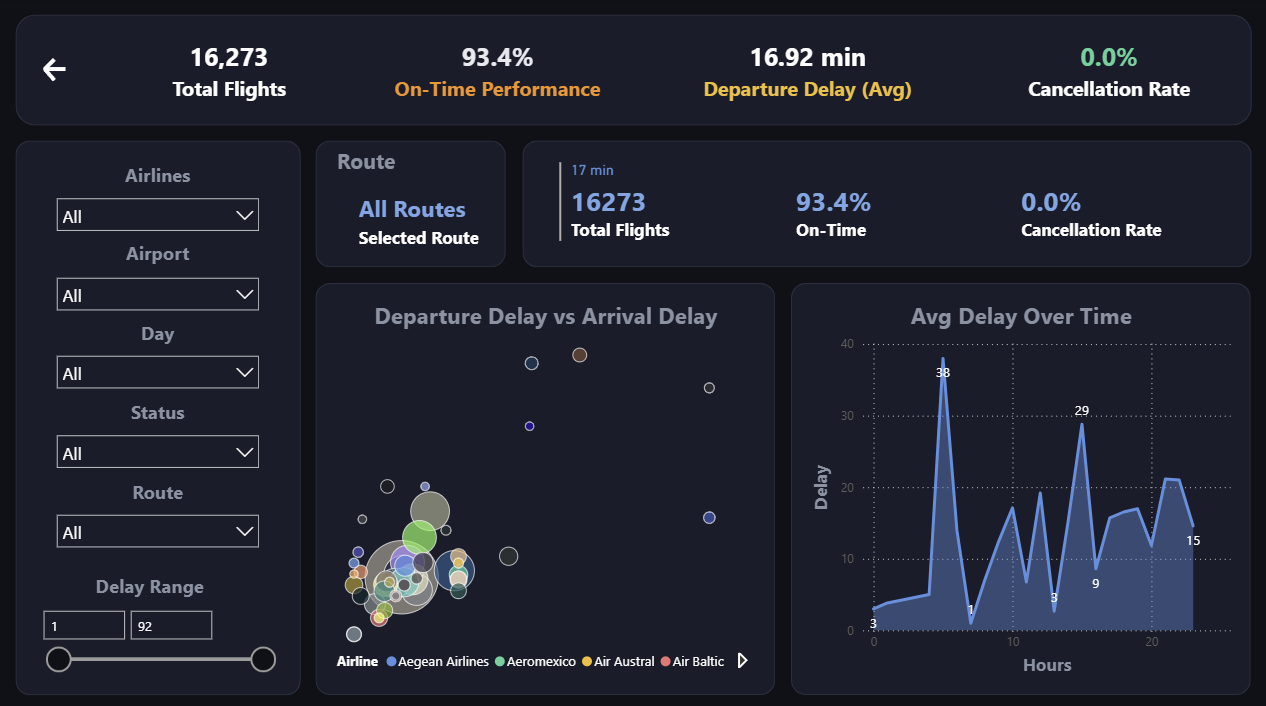

This screenshot's page, from the dashboard's own definition file:
{"tool":"powerbi","page":{"name":"Flight Details & Exploration","canvas":[1280,720],"ordinal":2},"visuals":[{"type":"shape","box":[16,144,288,560],"z":0},{"type":"textbox","box":[80,160,160,48],"z":1000},{"type":"textbox","box":[80,240,160,48],"z":2000},{"type":"textbox","box":[80,320,160,64],"z":3000},{"type":"textbox","box":[80,576,144,48],"z":4000},{"type":"textbox","box":[80,400,160,48],"z":5000},{"type":"textbox","box":[80,480,160,48],"z":6000},{"type":"slicer","fields":{"Values":["public dim_airport.airport_name"]},"box":[48,192,224,48],"z":7000},{"type":"slicer","fields":{"Values":["public dim_airline.airline_name"]},"box":[48,272,224,48],"z":8000},{"type":"slicer","fields":{"Values":["public dim_time.date.Variation.Date Hierarchy.Day"]},"box":[48,352,224,48],"z":9000},{"type":"slicer","fields":{"Values":["public fact_flight.Flight Status"]},"box":[48,432,224,48],"z":10000},{"type":"slicer","fields":{"Values":["public fact_flight.Route"]},"box":[48,512,224,48],"z":11000},{"type":"slicer","fields":{"Values":["public fact_flight.departure_delay"]},"box":[32,608,256,80],"z":12000},{"type":"shape","box":[320,144,192,128],"z":13000},{"type":"shape","box":[16,16,1248,112],"z":14000},{"type":"cardVisual","fields":{"Data":["public fact_flight.Total Flights"]},"box":[80,16,304,112],"z":15000},{"type":"cardVisual","fields":{"Data":["public kpi_avg_departure_delay.Avg Departure Delay"]},"box":[672,16,288,112],"z":16000},{"type":"cardVisual","fields":{"Data":["Sum(public kpi_cancellation_rate.cancellation_rate)"]},"box":[976,16,288,112],"z":17000},{"type":"cardVisual","fields":{"Data":["public kpi_on_time_performance.On-Time Performance %"]},"box":[352,16,304,112],"z":18000},{"type":"cardVisual","title":"Route","fields":{"Data":["public dim_airline.Selected Route"]},"box":[336,144,192,128],"z":19000},{"type":"shape","box":[528,144,736,128],"z":20000},{"type":"multiRowCard","fields":{"Values":["public dim_airline.Total Flights (Selected Route)","public dim_airline.Avg Delay (Selected Route)","public dim_airline.On-Time % (Selected Route)","public dim_airline.Cancellation % (Selected Route)"]},"box":[560,160,704,96],"z":21000},{"type":"shape","box":[320,288,464,416],"z":22000},{"type":"shape","box":[800,288,464,416],"z":23000},{"type":"scatterChart","title":"Departure Delay vs Arrival Delay","fields":{"X":["Avg(public fact_flight.departure_delay)"],"Y":["Avg(public fact_flight.arrival_delay)"],"Series":["public dim_airline.airline_name"],"Size":["public dim_airline.Total Flights (Selected Route)"]},"box":[336,304,432,384],"z":24000},{"type":"actionButton","box":[16,48,80,48],"z":25000},{"type":"lineChart","title":"Avg Delay Over Time","fields":{"Category":["public dim_time.hour"],"Y":["public kpi_avg_arrival_delay.Dep Delay Avg"]},"box":[816,304,432,384],"z":26000}]}

Visuals, with their boxes in screenshot pixels (x1, y1, x2, y2), scaled from the page's 1280x720 canvas onto the 1266x706 screenshot:
shape: 16, 141, 301, 690
textbox: 79, 157, 237, 204
textbox: 79, 235, 237, 282
textbox: 79, 314, 237, 377
textbox: 79, 565, 222, 612
textbox: 79, 392, 237, 439
textbox: 79, 471, 237, 518
slicer - public dim_airport.airport_name: 47, 188, 269, 235
slicer - public dim_airline.airline_name: 47, 267, 269, 314
slicer - public dim_time.date.Variation.Date Hierarchy.Day: 47, 345, 269, 392
slicer - public fact_flight.Flight Status: 47, 424, 269, 471
slicer - public fact_flight.Route: 47, 502, 269, 549
slicer - public fact_flight.departure_delay: 32, 596, 285, 675
shape: 316, 141, 506, 267
shape: 16, 16, 1250, 126
cardVisual - public fact_flight.Total Flights: 79, 16, 380, 126
cardVisual - public kpi_avg_departure_delay.Avg Departure Delay: 665, 16, 950, 126
cardVisual - Sum(public kpi_cancellation_rate.cancellation_rate): 965, 16, 1250, 126
cardVisual - public kpi_on_time_performance.On-Time Performance %: 348, 16, 649, 126
"Route" cardVisual: 332, 141, 522, 267
shape: 522, 141, 1250, 267
multiRowCard - public dim_airline.Total Flights (Selected Route) x public dim_airline.Avg Delay (Selected Route): 554, 157, 1250, 251
shape: 316, 282, 775, 690
shape: 791, 282, 1250, 690
"Departure Delay vs Arrival Delay" scatterChart: 332, 298, 760, 675
actionButton: 16, 47, 95, 94
"Avg Delay Over Time" lineChart: 807, 298, 1234, 675
